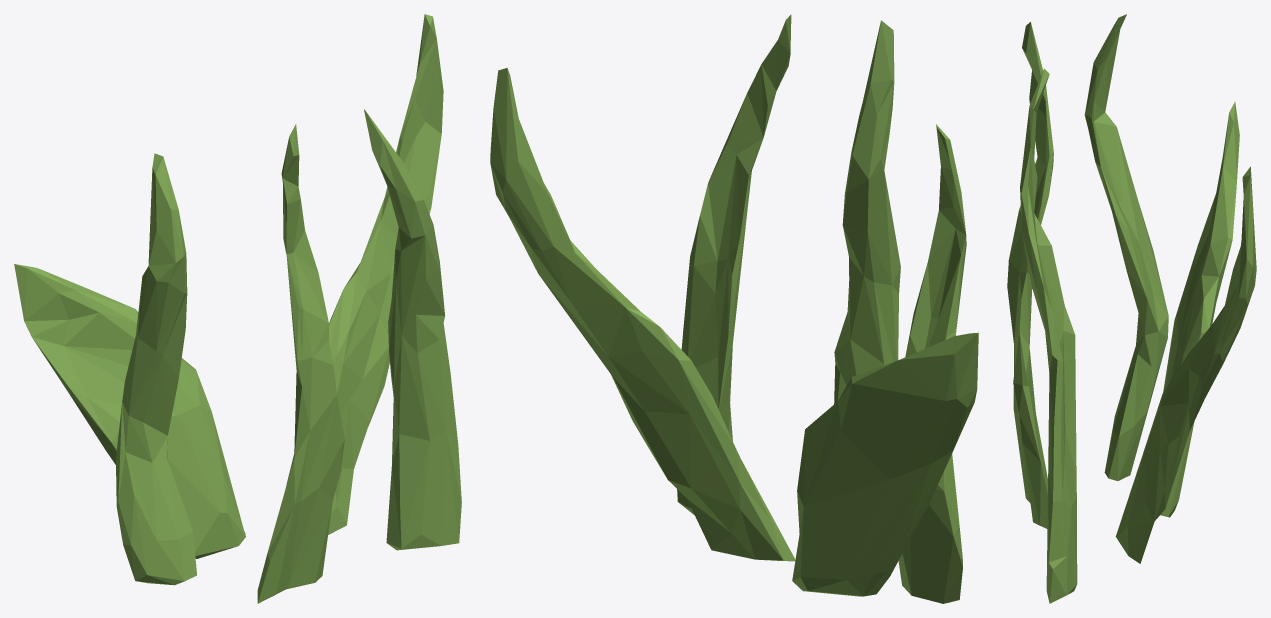
Rendered from Plant2.fbx.
The picture shows the model from 3 angles, left to right: view 1: azimuth 30°, elevation 25°; view 2: azimuth 150°, elevation 25°; view 3: azimuth 270°, elevation 25°; orthographic projection. The views are drawn at different scales.
Parts seen in each view (by area): view 1: pasted__pasted__pasted__pCube13; view 2: pasted__pasted__pasted__pCube13; view 3: pasted__pasted__pasted__pCube13.
Boxes of the visible parts, left/top/right/bottom form: pasted__pasted__pasted__pCube13: left=14, top=14, right=461, bottom=603; pasted__pasted__pasted__pCube13: left=490, top=14, right=978, bottom=603; pasted__pasted__pasted__pCube13: left=1007, top=14, right=1256, bottom=603.
Bounding box in the file's own units: 3.41 × 3.52 × 1.61.
